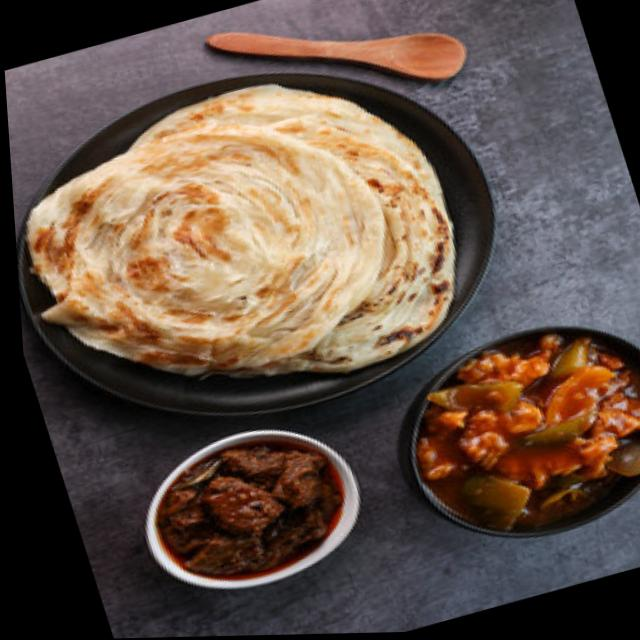CHICKEN FRY: (159, 451, 337, 576)
KURMA: (420, 337, 640, 530)
PAROTTA: (31, 90, 445, 370)
